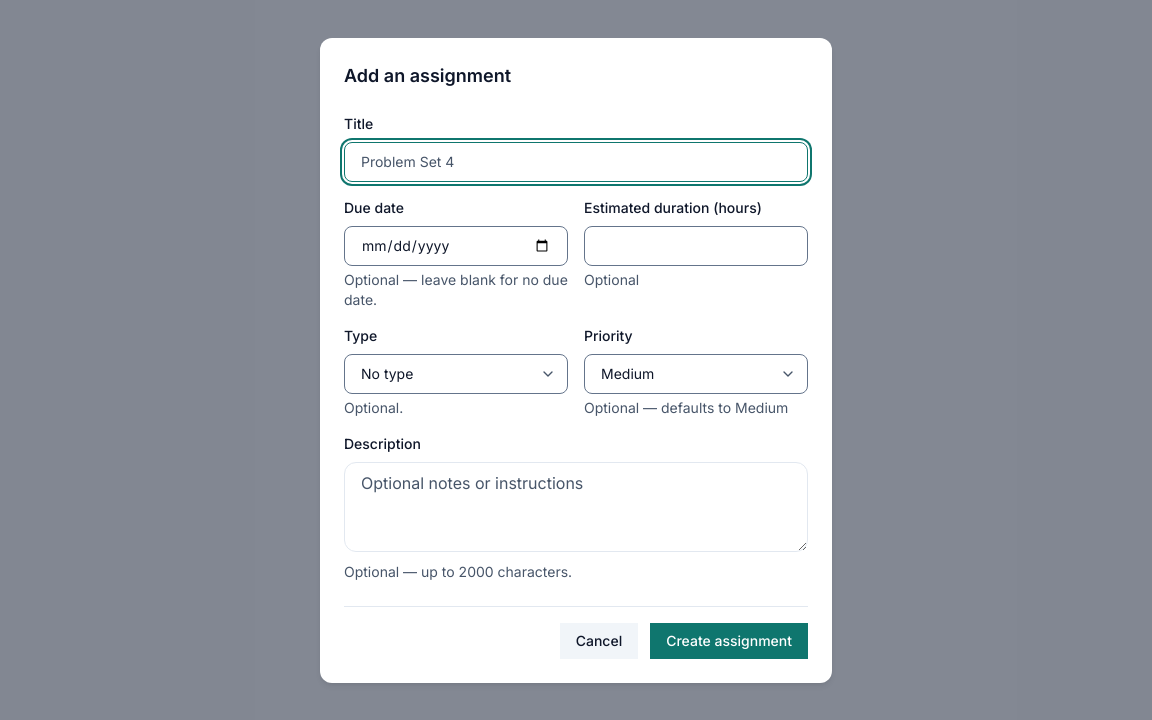
Test: AssignmentForm › maps server 400 field errors to every form field including type
This screenshot has width=1152, height=720.
Type "Homework" into the field labelled "Title". click: [576, 162]
box: x1=344 y1=142 x2=808 y2=182
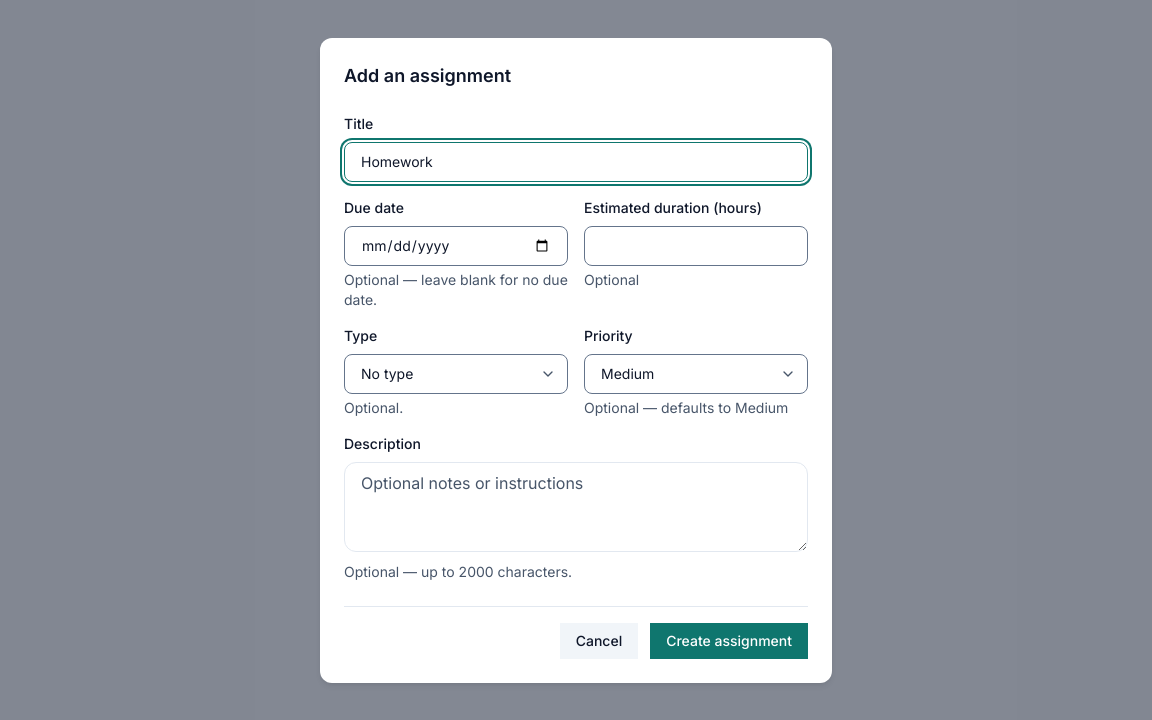
Click the button "Create assignment". click: [729, 640]
box: x1=650 y1=622 x2=808 y2=658
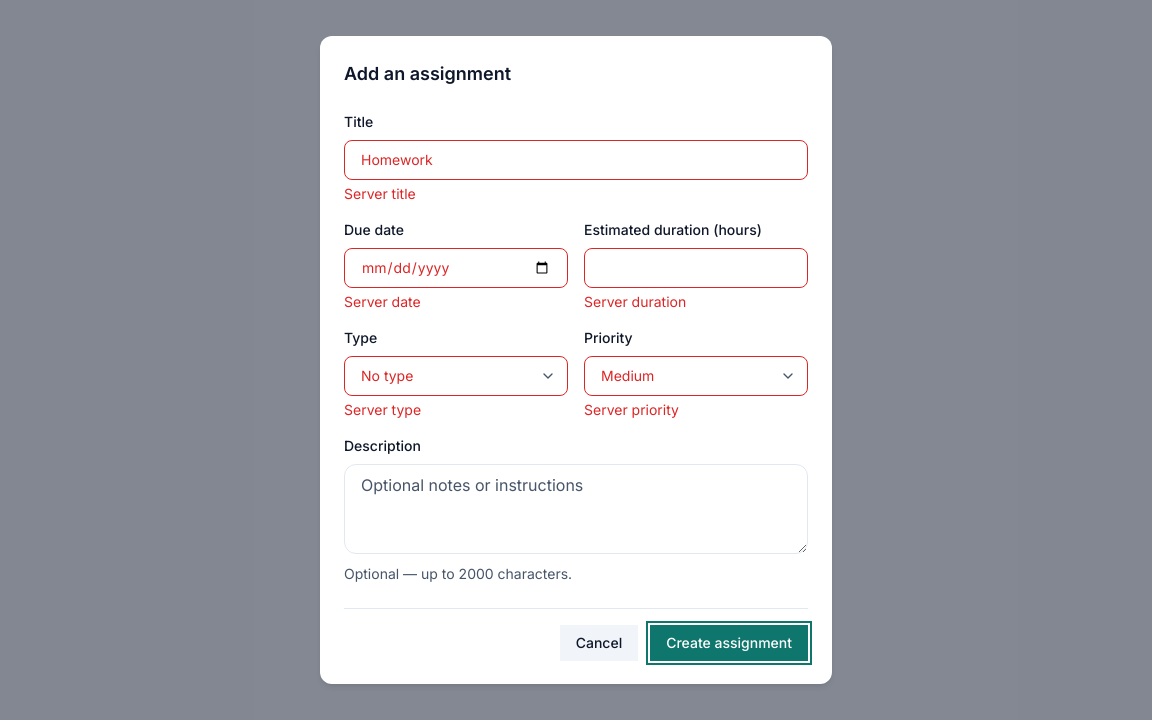
Result: the text "Server title" is shown at x1=344 y1=185 x2=416 y2=202
Result: the text "Server date" is shown at x1=344 y1=293 x2=421 y2=310
Result: the text "Server duration" is shown at x1=584 y1=293 x2=686 y2=310
